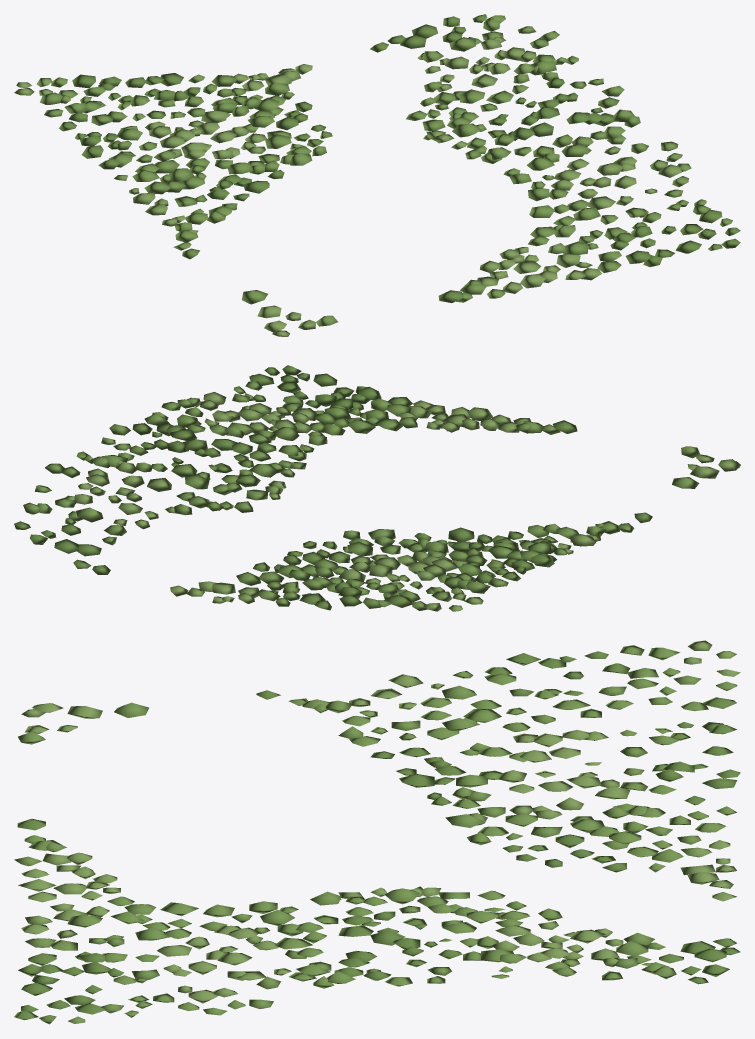
Rendered from canopy-1--1-0.glb.
3 renders of one model, top to bottom at view 1: azimuth 30°, elevation 25°; view 2: azimuth 150°, elevation 25°; view 3: azimuth 270°, elevation 25°, orthographic. The views are drawn at different scales.
Size of the model in its own units: 518 by 80 by 510.
1 material, 1 textured.
